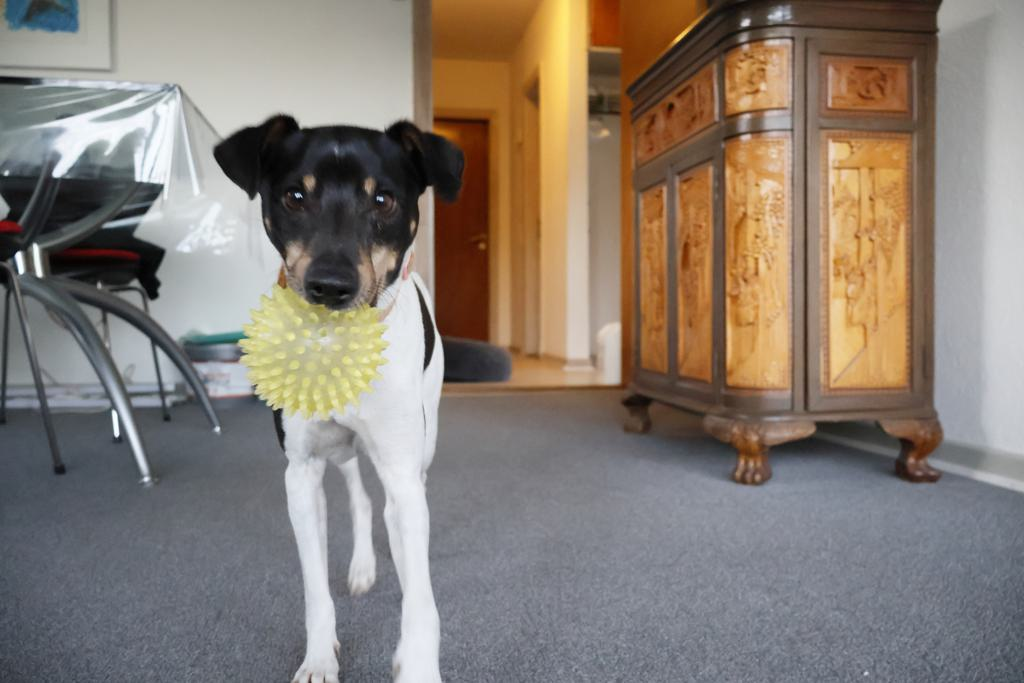Dog: (203, 106, 477, 683)
